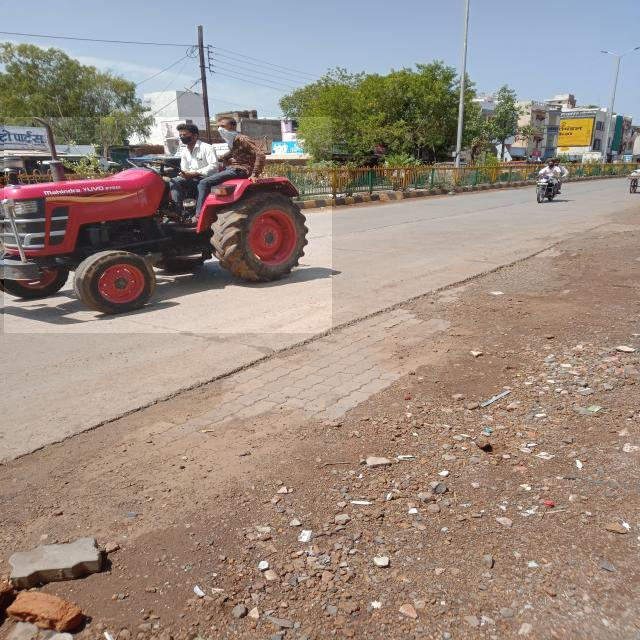Tractot: (4, 118, 332, 334)
